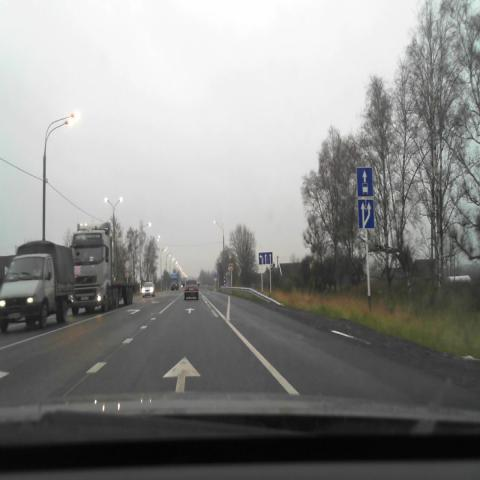5_14: (356, 166, 373, 196)
